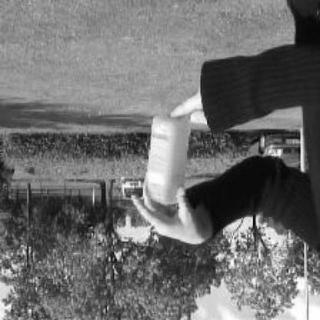other: (133, 116, 200, 217)
